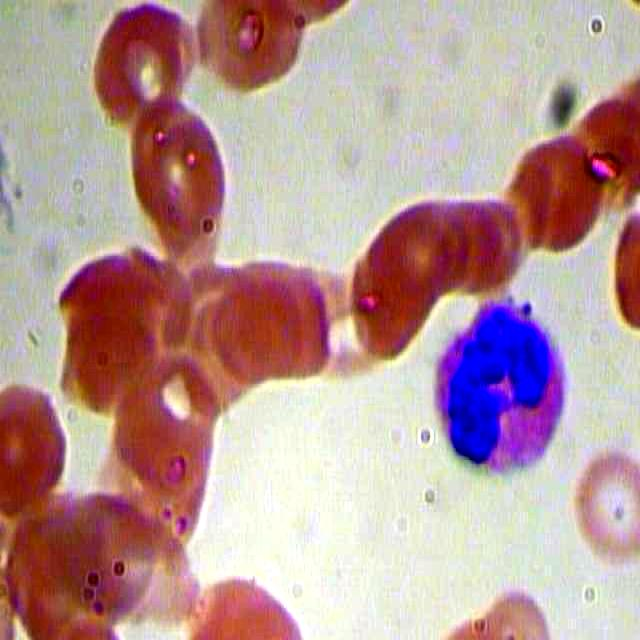RBC: (116, 88, 242, 260), (86, 1, 208, 135), (216, 266, 315, 394), (242, 258, 341, 386), (289, 260, 388, 388), (508, 125, 606, 254), (185, 2, 310, 102), (2, 380, 80, 516), (566, 449, 640, 563)
WBC: (421, 290, 589, 494)
